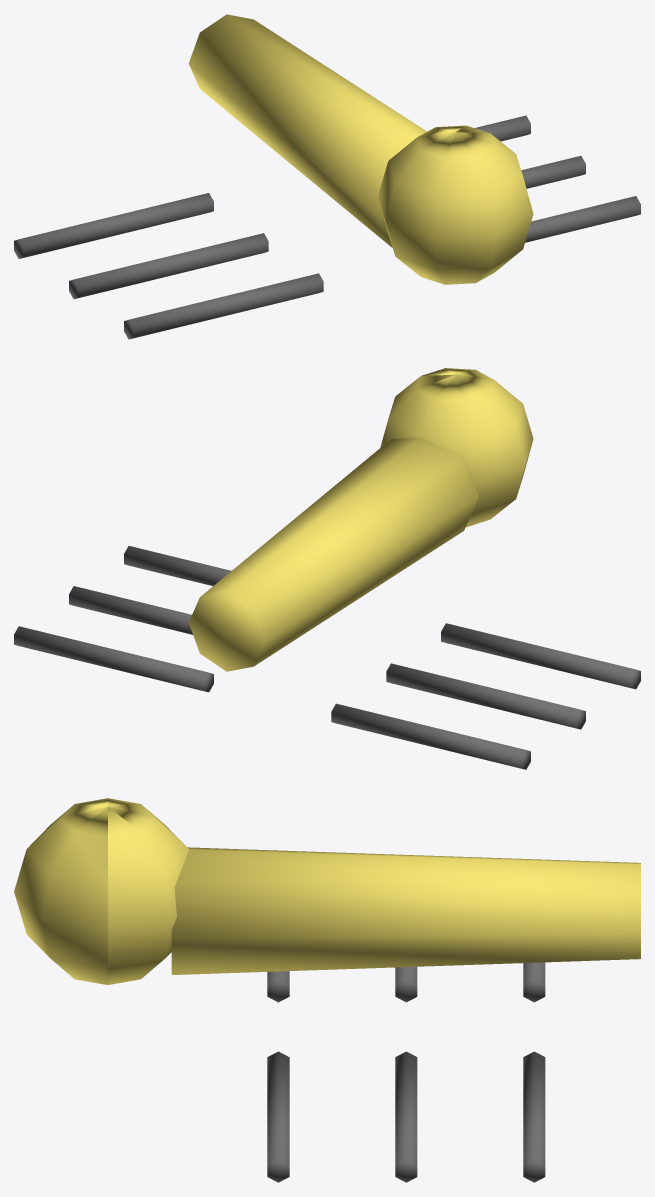
3 views of the same model, one above another, from view 1: azimuth 30°, elevation 25°; view 2: azimuth 150°, elevation 25°; view 3: azimuth 270°, elevation 25° (orthographic). The views are drawn at different scales.
Visible parts, largest first — view 1: Generated3DMesh; view 2: Generated3DMesh; view 3: Generated3DMesh.
Part boxes in pixels (x1,y1,x2,y2): Generated3DMesh: [14, 14, 640, 339]; Generated3DMesh: [14, 368, 640, 769]; Generated3DMesh: [14, 798, 640, 1182].
Size of the model in its own units: 1.6 by 0.6 by 1.47.
